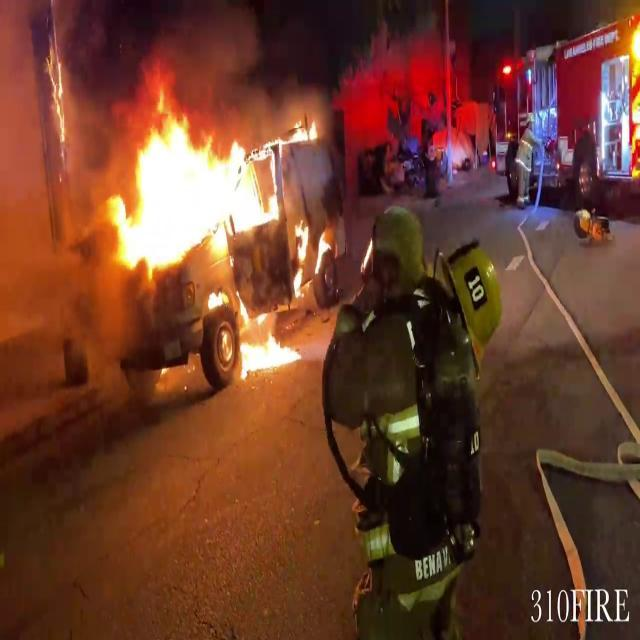Fire: (98, 105, 302, 278), (230, 306, 298, 380)
